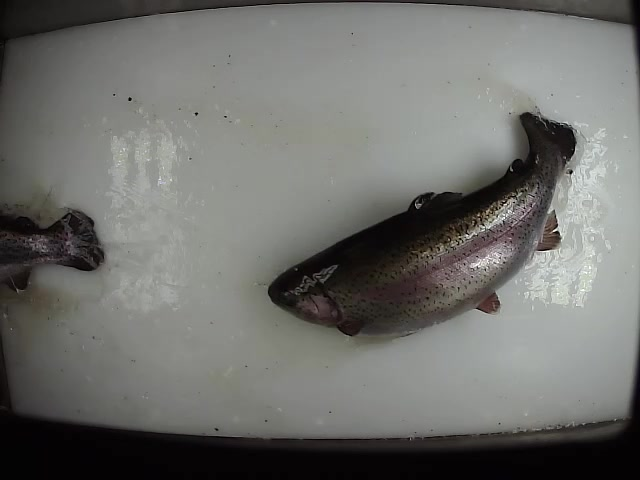fish: (264, 111, 578, 341), (1, 210, 105, 296)
